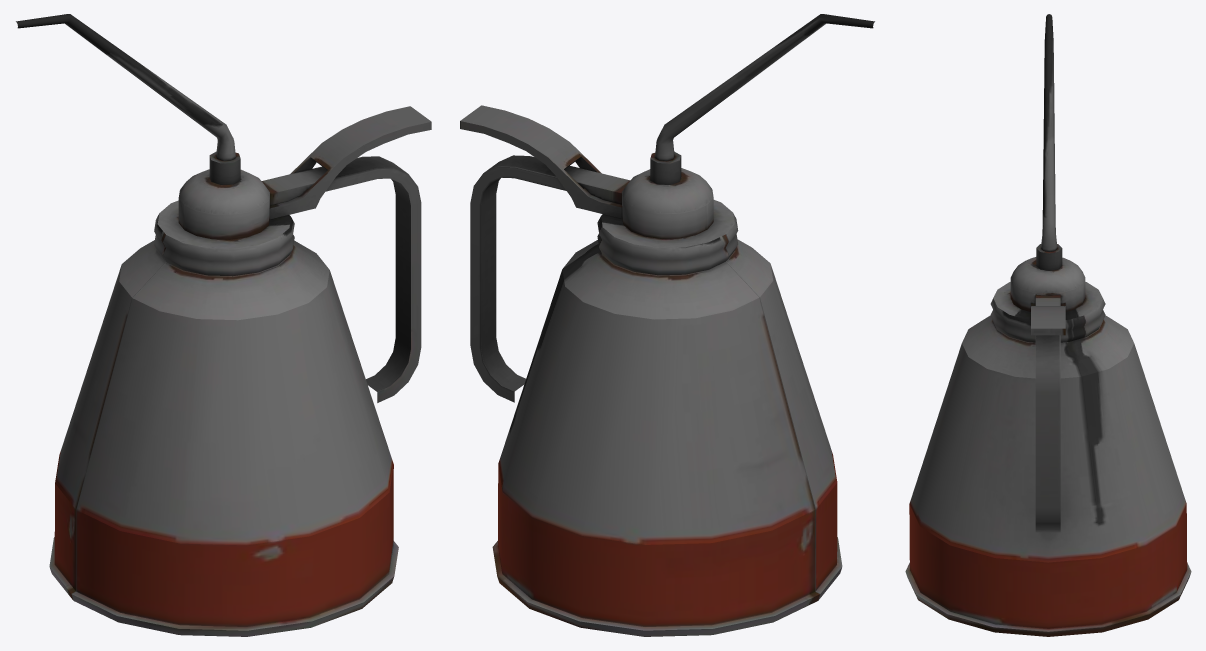
3 renders of one model, left to right at view 1: azimuth 30°, elevation 25°; view 2: azimuth 150°, elevation 25°; view 3: azimuth 270°, elevation 25°, orthographic. The views are drawn at different scales.
Visible parts, largest first — view 1: body0_model0_lod0_mesh0; view 2: body0_model0_lod0_mesh0; view 3: body0_model0_lod0_mesh0.
Part boxes in pixels (x1=…): body0_model0_lod0_mesh0: x1=16, y1=14, x2=431, y2=636; body0_model0_lod0_mesh0: x1=460, y1=14, x2=874, y2=636; body0_model0_lod0_mesh0: x1=905, y1=14, x2=1191, y2=636.
Bounding box in the file's own units: 28.06 × 39.3 × 21.18.
1 material, 1 textured.
